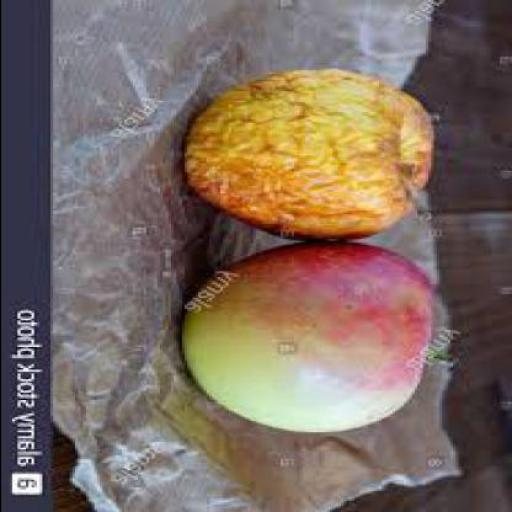biodegradable: (184, 242, 460, 434), (187, 74, 462, 241)
paper: (53, 1, 466, 511)
